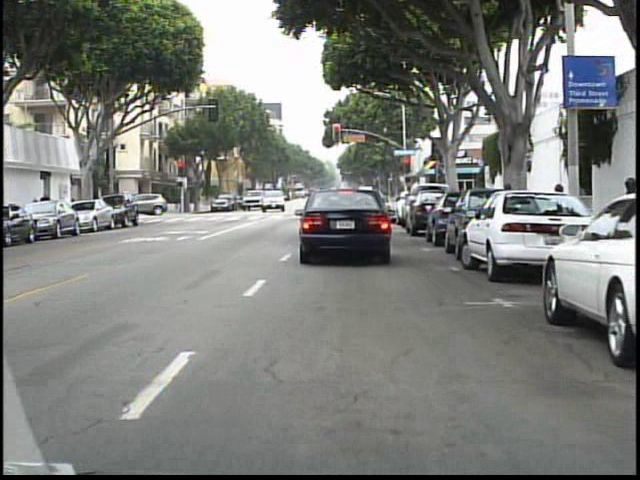person: (39, 189, 56, 228), (138, 190, 154, 218)
